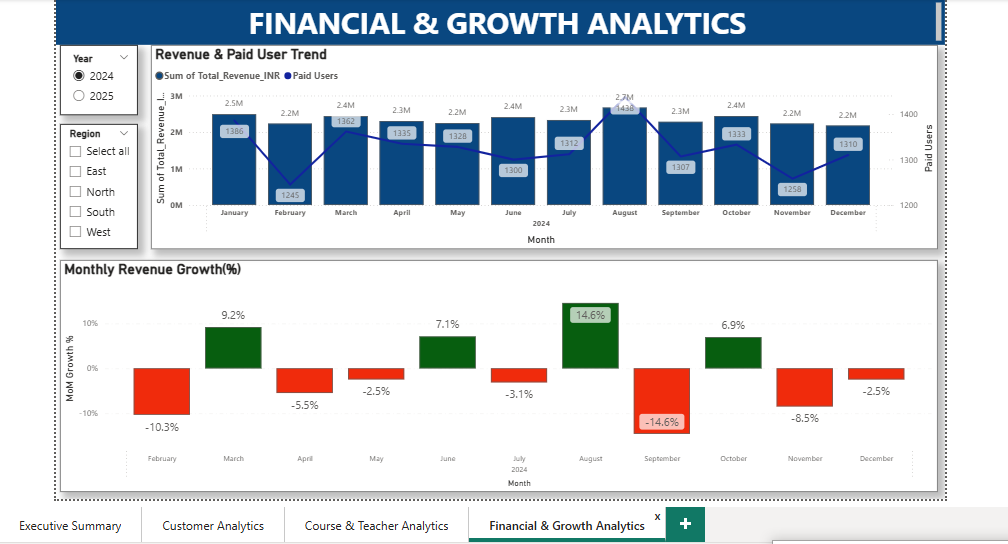

Layout of this report page (visuals, bound fields, positions):
{"tool":"powerbi","page":{"name":"Financial & Growth Analytics","canvas":[1280,720],"ordinal":3},"visuals":[{"type":"textbox","box":[0,0,1280.2,66.2],"z":0},{"type":"slicer","fields":{"Values":["Subscriptions.Signup_Year"]},"box":[5.8,66.2,112.3,100.8],"z":1000},{"type":"slicer","fields":{"Values":["Subscriptions.Region"]},"box":[5.8,180,112.3,180],"z":2000},{"type":"lineClusteredColumnComboChart","title":"Monthly Revenue Growth(%)","fields":{"Y":["Subscriptions.MoM Growth %"],"Category":["Subscriptions.Signup_Date.Variation.Date Hierarchy.Year","Subscriptions.Signup_Date.Variation.Date Hierarchy.Month"]},"box":[5.8,375.8,1264.3,334.1],"z":4000},{"type":"lineClusteredColumnComboChart","title":"Revenue & Paid User Trend","fields":{"Y":["Sum(Subscriptions.Total_Revenue_INR)"],"Y2":["Subscriptions.Paid Users"],"Category":["Subscriptions.Signup_Date.Variation.Date Hierarchy.Year","Subscriptions.Signup_Date.Variation.Date Hierarchy.Month"]},"box":[136.8,66.2,1133.3,293.8],"z":5000}]}

Visuals, with their boxes on the page's 1280x720 design canvas (x1, y1, x2, y2). These are canvas units, not pixel positions in the 1008x544 screenshot, which may show the page scaled, cropped or inside an application window:
textbox: Rect(0, 0, 1280, 66)
slicer - Subscriptions.Signup_Year: Rect(6, 66, 118, 167)
slicer - Subscriptions.Region: Rect(6, 180, 118, 360)
"Monthly Revenue Growth(%)" lineClusteredColumnComboChart: Rect(6, 376, 1270, 710)
"Revenue & Paid User Trend" lineClusteredColumnComboChart: Rect(137, 66, 1270, 360)
